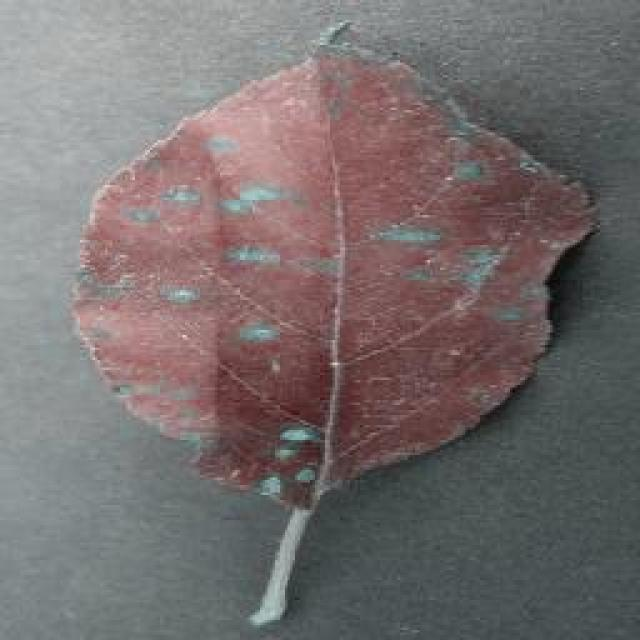Apple___Cedar_apple_rust: (64, 19, 604, 516)
